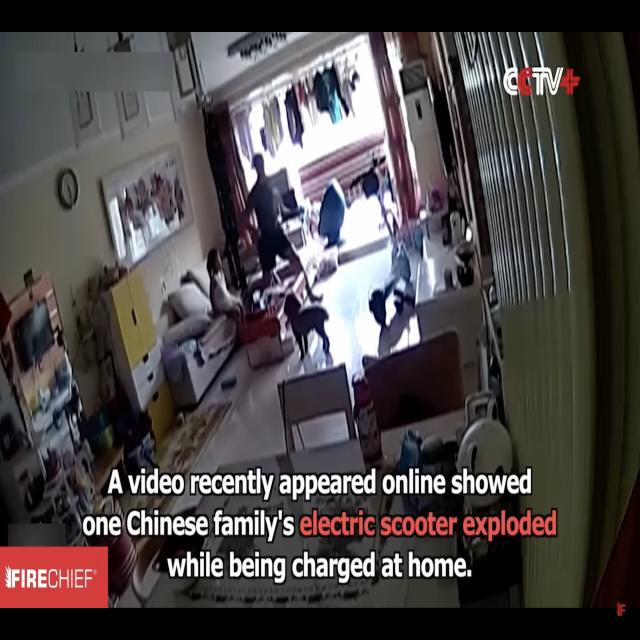Monitorando: (6, 43, 617, 564)
